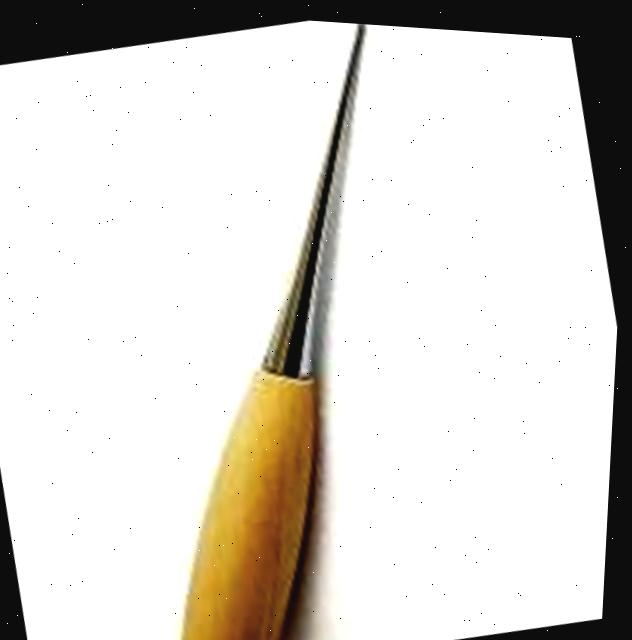ice pick: (60, 5, 504, 640)
